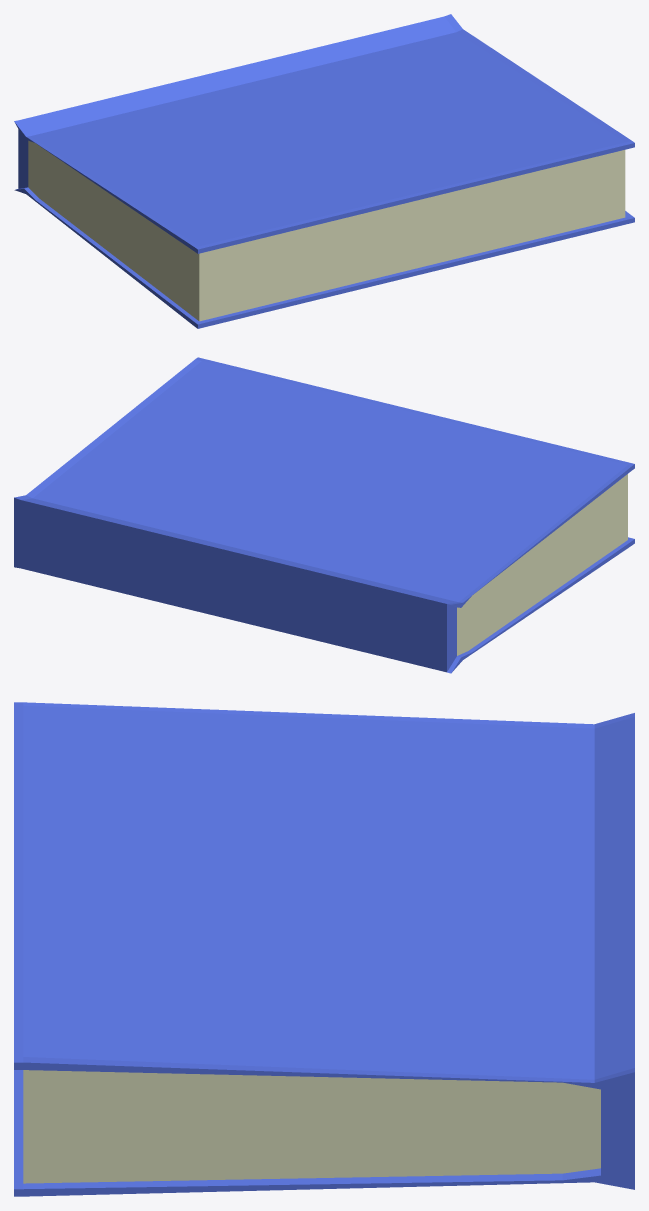
Rendered from blue booke.fbx.
The picture shows the model from 3 angles, top to bottom: view 1: azimuth 30°, elevation 25°; view 2: azimuth 150°, elevation 25°; view 3: azimuth 270°, elevation 25°; orthographic projection. The views are drawn at different scales.
Visible parts, largest first — view 1: Cube.006; view 2: Cube.006; view 3: Cube.006.
Boxes of the visible parts, x1,y1,x2,y2 form: Cube.006: [14, 14, 634, 328]; Cube.006: [14, 357, 634, 673]; Cube.006: [14, 702, 634, 1196].
Bounding box in the file's own units: 1086 × 188 × 791.
